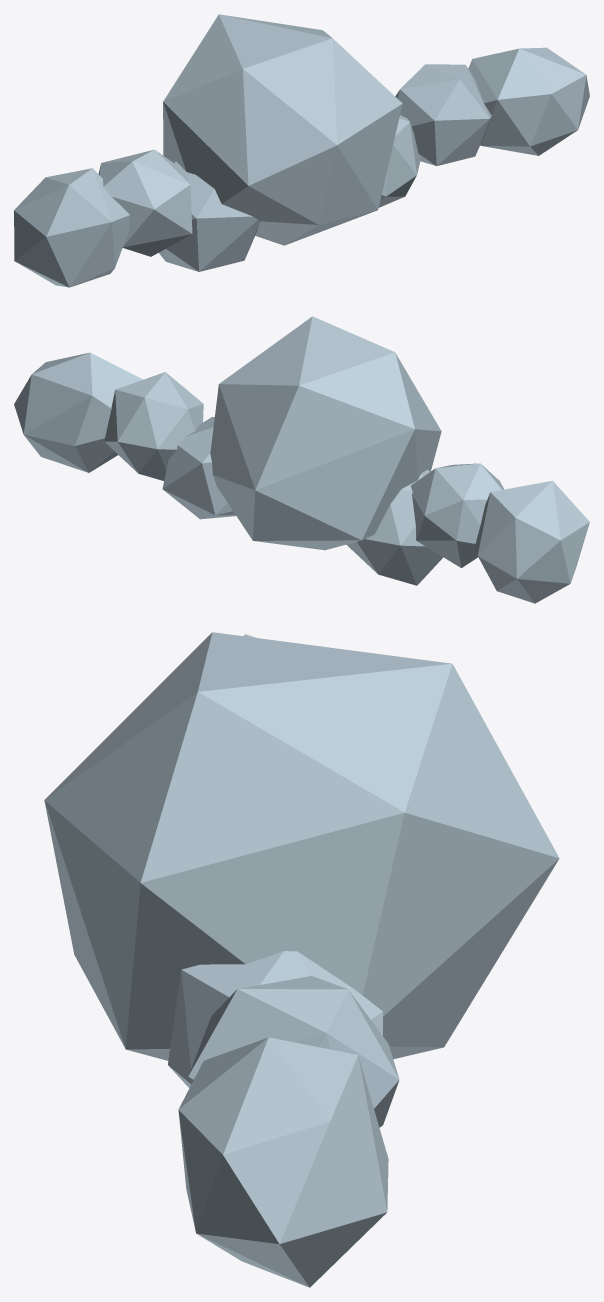
The model's file is small_cloud_9.fbx.
3 renders of one model, top to bottom at view 1: azimuth 30°, elevation 25°; view 2: azimuth 150°, elevation 25°; view 3: azimuth 270°, elevation 25°, orthographic. The views are drawn at different scales.
Parts seen in each view (by area): view 1: cloud_9; view 2: cloud_9; view 3: cloud_9.
Part boxes in pixels (x1=…): cloud_9: x1=14, y1=14, x2=589, y2=287; cloud_9: x1=14, y1=316, x2=589, y2=603; cloud_9: x1=44, y1=632, x2=559, y2=1287.
Bounding box in the file's own units: 644 × 238 × 254.
